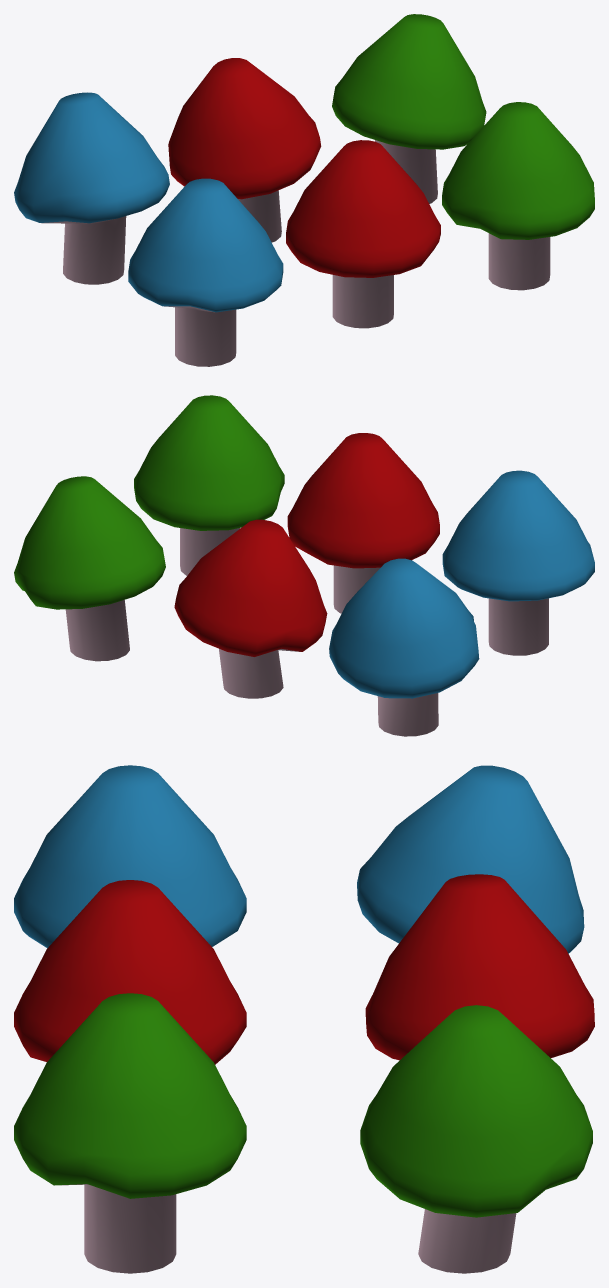
Rendered from Mushrooms.fbx.
3 renders of one model, top to bottom at view 1: azimuth 30°, elevation 25°; view 2: azimuth 150°, elevation 25°; view 3: azimuth 270°, elevation 25°, orthographic. The views are drawn at different scales.
Visible parts, largest first — view 1: Cylinder, Cylinder.001, Cylinder.005, Cylinder.002, Cylinder.004, Cylinder.003; view 2: Cylinder.005, Cylinder.004, Cylinder.003, Cylinder.002, Cylinder.001, Cylinder; view 3: Cylinder.001, Cylinder.004, Cylinder.003, Cylinder.002, Cylinder, Cylinder.005.
Boxes of the visible parts, x1=… form: Cylinder: x1=286, y1=140, x2=440, y2=328; Cylinder.001: x1=442, y1=102, x2=594, y2=290; Cylinder.005: x1=14, y1=92, x2=169, y2=284; Cylinder.002: x1=128, y1=178, x2=283, y2=366; Cylinder.004: x1=332, y1=14, x2=486, y2=203; Cylinder.003: x1=168, y1=58, x2=321, y2=242; Cylinder.005: x1=329, y1=558, x2=479, y2=736; Cylinder.004: x1=14, y1=476, x2=165, y2=661; Cylinder.003: x1=174, y1=519, x2=327, y2=698; Cylinder.002: x1=442, y1=470, x2=594, y2=655; Cylinder.001: x1=134, y1=395, x2=284, y2=575; Cylinder: x1=287, y1=433, x2=439, y2=613; Cylinder.001: x1=14, y1=993, x2=246, y2=1273; Cylinder.004: x1=360, y1=1005, x2=592, y2=1273; Cylinder.003: x1=365, y1=874, x2=594, y2=1060; Cylinder.002: x1=14, y1=765, x2=246, y2=948; Cylinder: x1=14, y1=880, x2=246, y2=1064; Cylinder.005: x1=357, y1=765, x2=584, y2=953.
Bounding box in the file's own units: 1697 × 603 × 1261.
